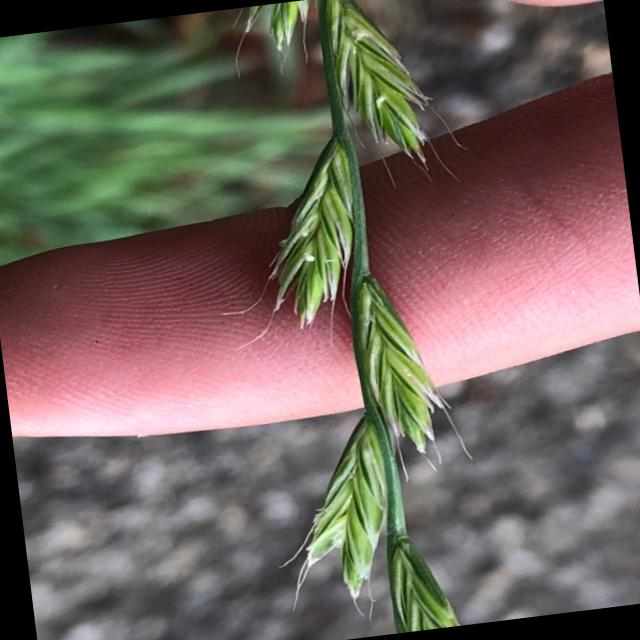Lolium: (204, 0, 502, 640)
